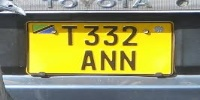T: (61, 24, 79, 47)
